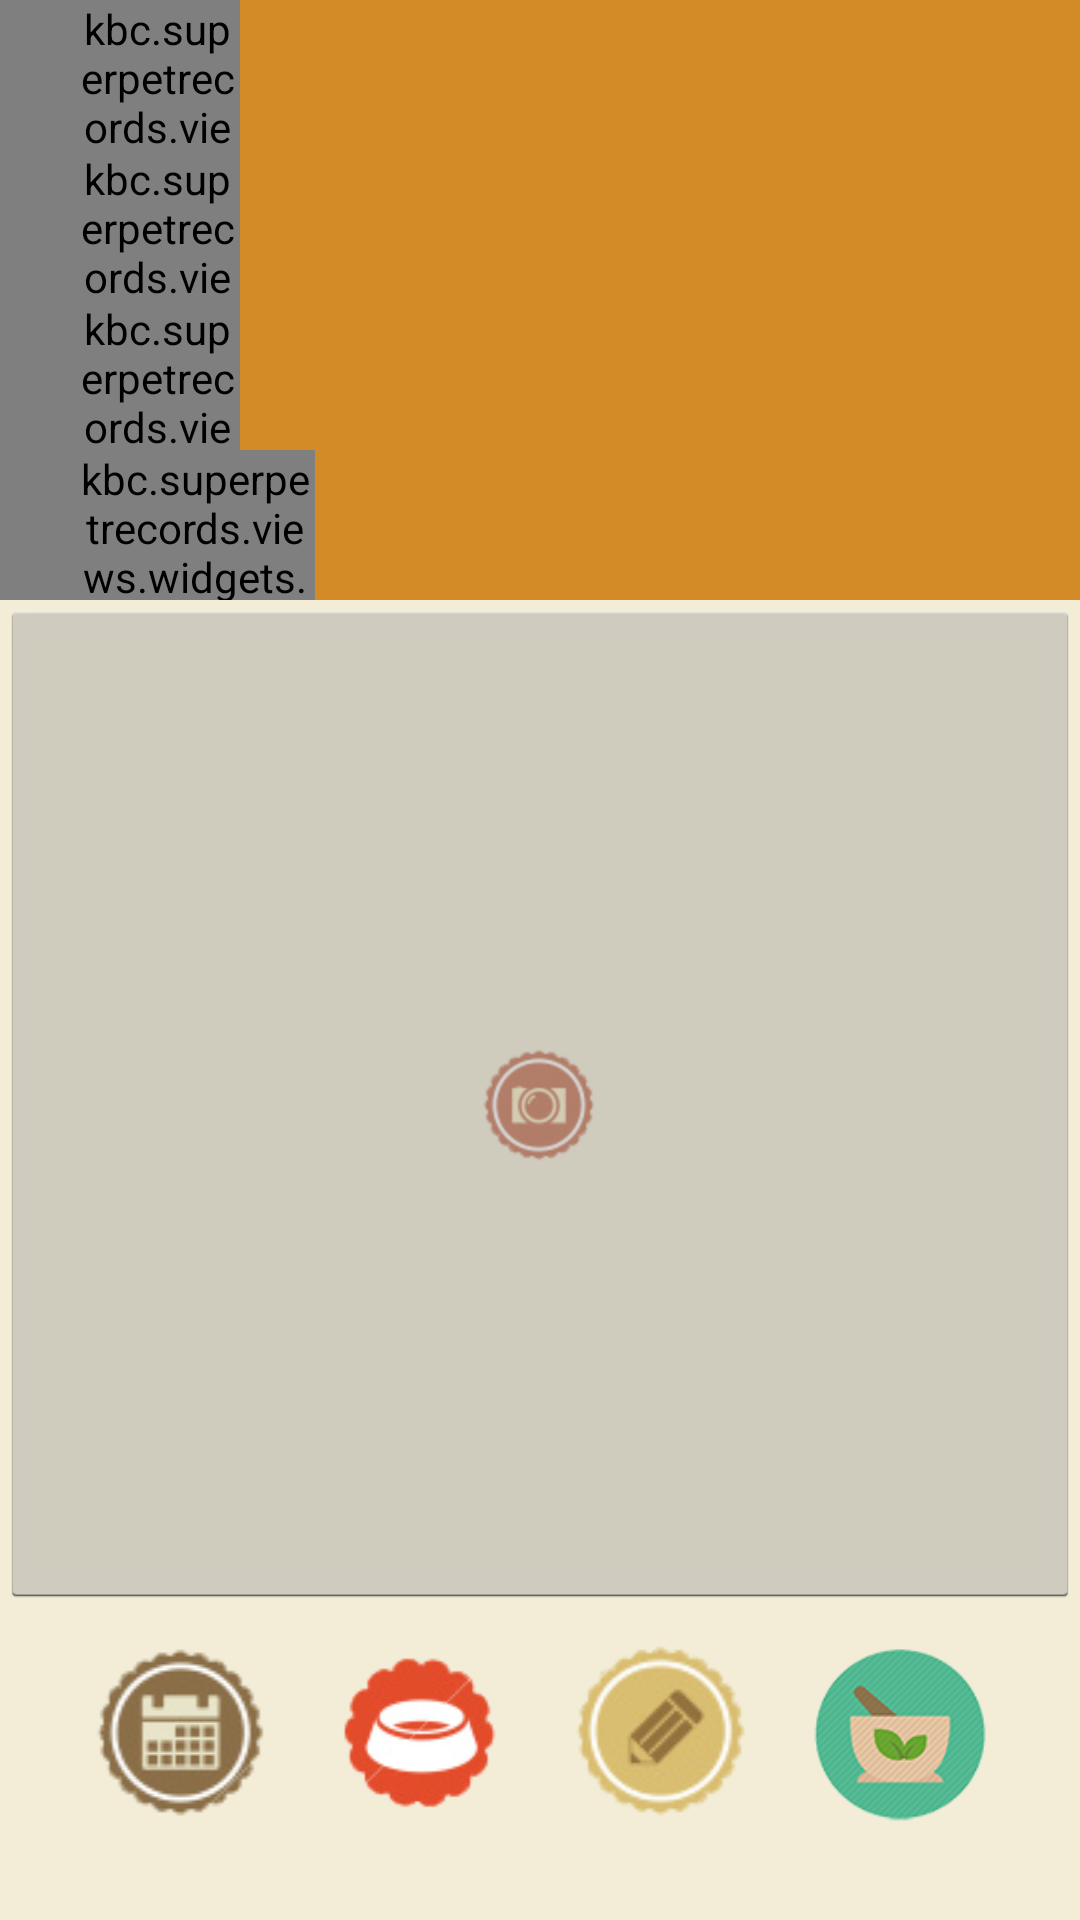

Icon bounding boxes for this 1080*1920 phone screenshot, format (x1, y1, x2, y2):
calendar badge: (99, 1650, 263, 1815)
camera badge: (484, 1051, 593, 1159)
diet badge: (344, 1658, 495, 1807)
pencil badge: (578, 1647, 744, 1815)
pharmacy badge: (814, 1649, 986, 1821)
